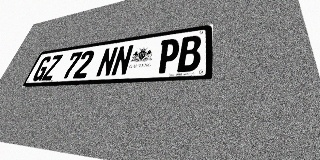2: (72, 50, 96, 79)
7: (60, 52, 83, 80)
B: (177, 35, 202, 72)
G: (31, 56, 53, 81)
N: (110, 44, 134, 76), (95, 46, 119, 77)
P: (156, 38, 180, 74)
Z: (41, 54, 63, 81)
